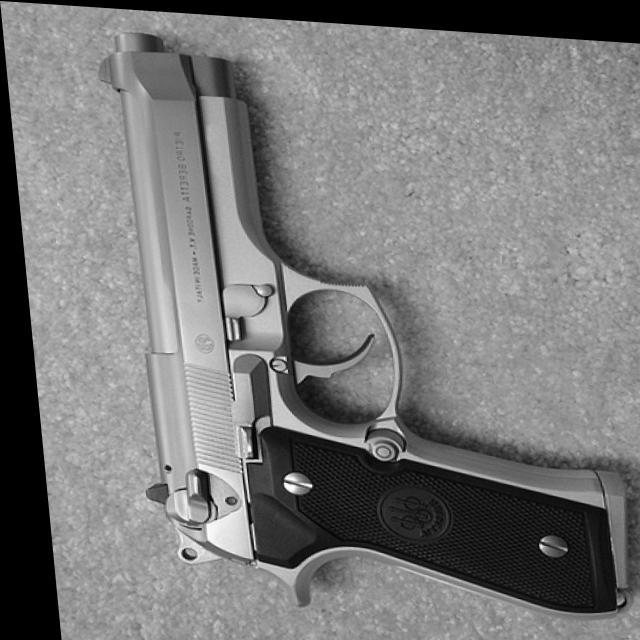handgun: (87, 27, 630, 621)
